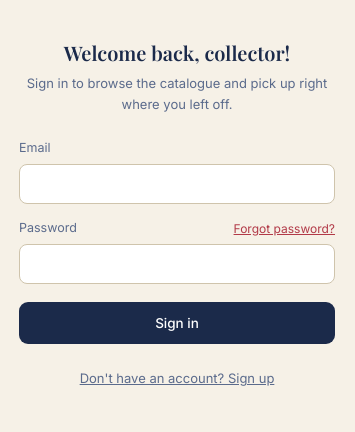
Test: Login — sign-in › shows a courteous generic message for a genuine wrong-password/invalid-credentials failure
In the field labelled "Email": (177, 184) [19, 164, 335, 204], type "collector@example.test"
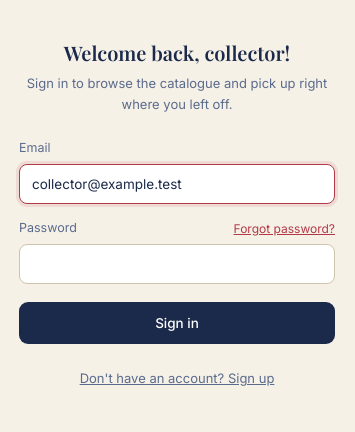
In the password field labelled "Password": (177, 264) [19, 244, 335, 284], type "a-password"
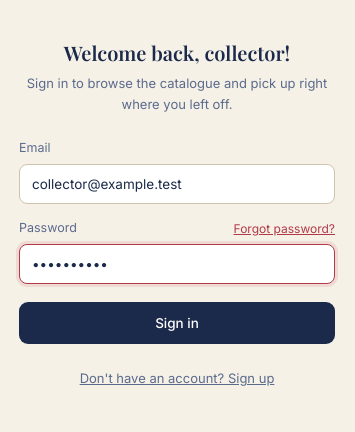
Click the button "Sign in": (177, 323) [19, 302, 335, 344]
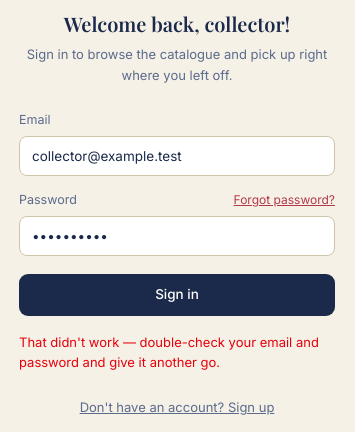
Expected: the text "didn't work — double-check" is shown, [19, 334, 319, 370]
